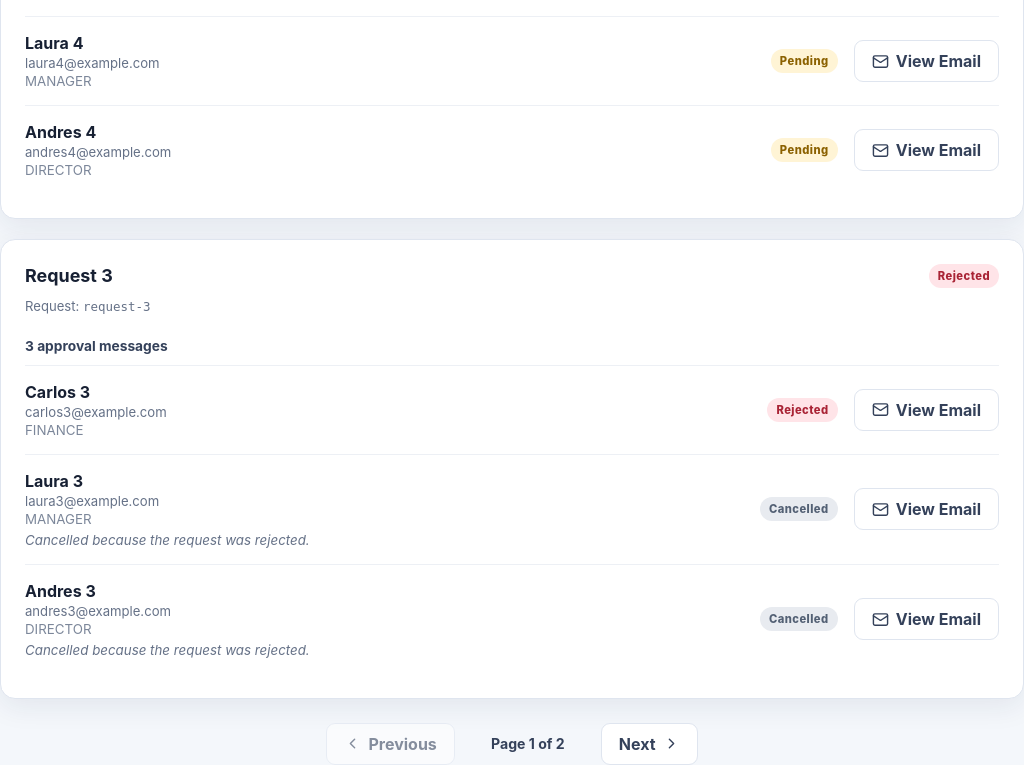
MockMailPage › returns to page one when filtering and clear restores the initial state
(page scrolled)
Click the button "Next".
click(649, 744)  # box [601,723,698,764]
(page scrolled)
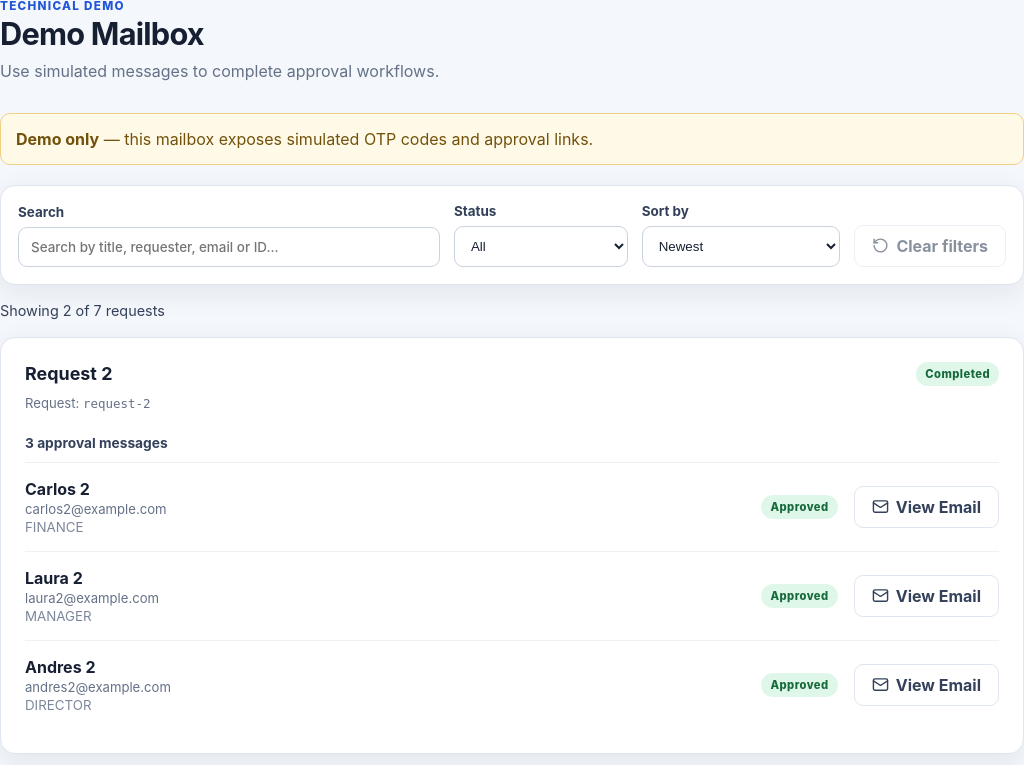
Type "missing" into the field labelled "Search".
click(229, 247); type("missing")  # box [18,227,440,267]
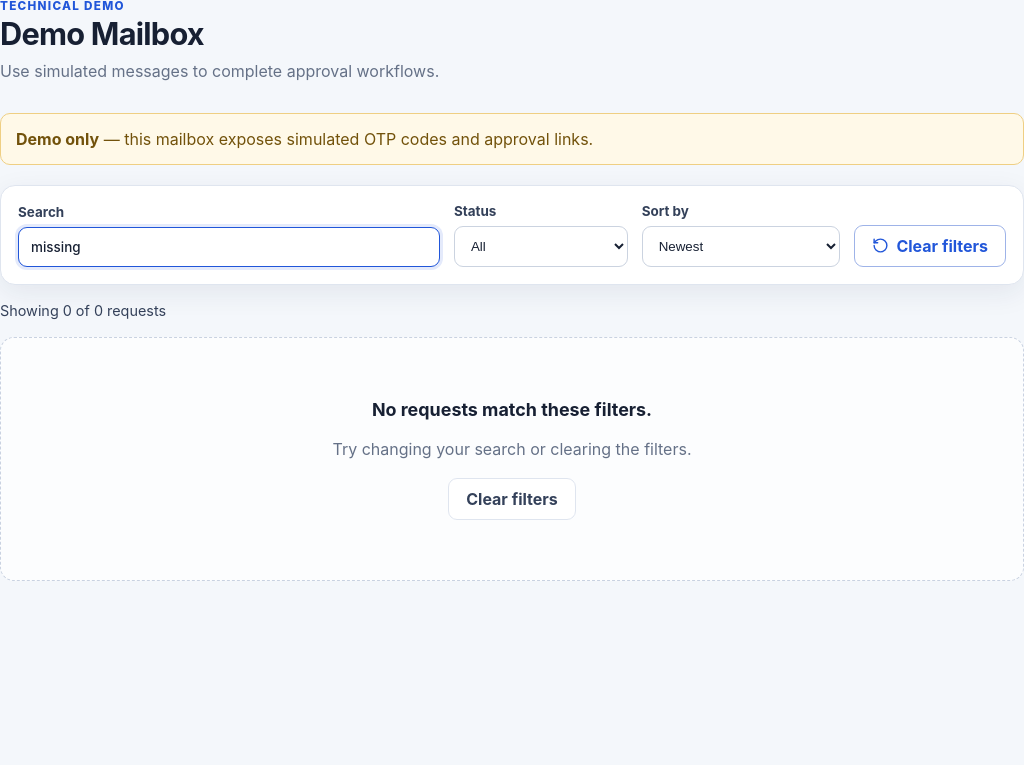
Now the heading "No requests match these filters." is shown, box [372,399,652,420]
Click the button "Clear filters" below "Sort by".
click(930, 246)  # box [854,225,1006,267]
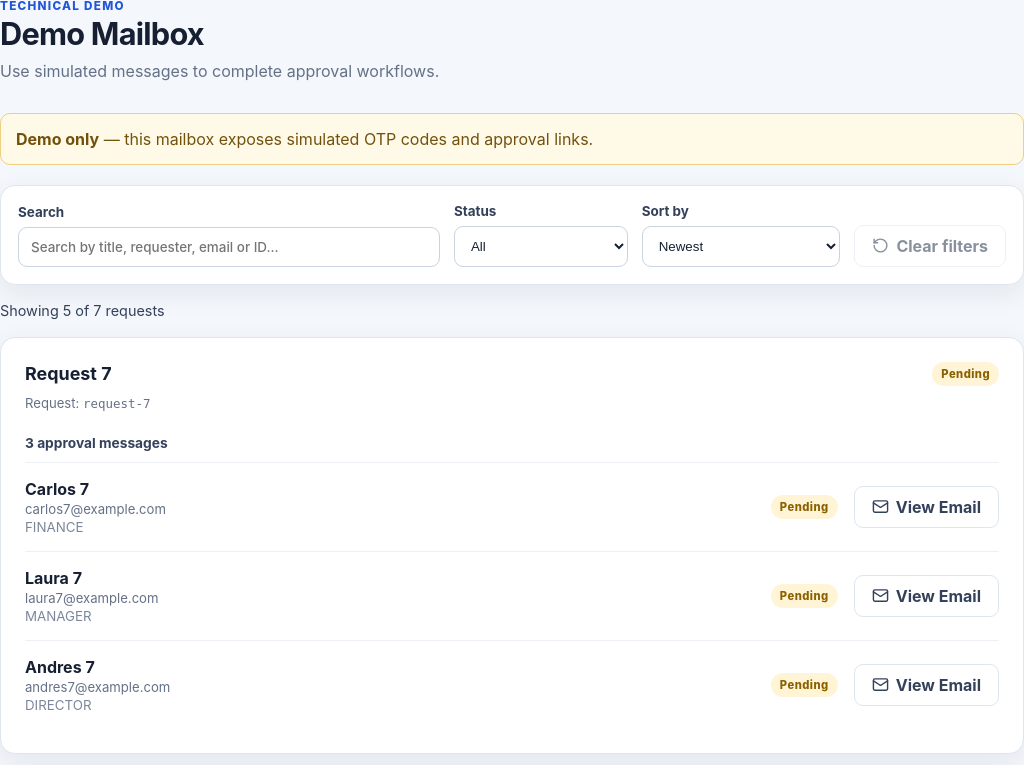
Expected: the dropdown labelled "Status" shows "All", [454,226,628,267]
Now the field labelled "Search" is empty, box [18,227,440,267]
